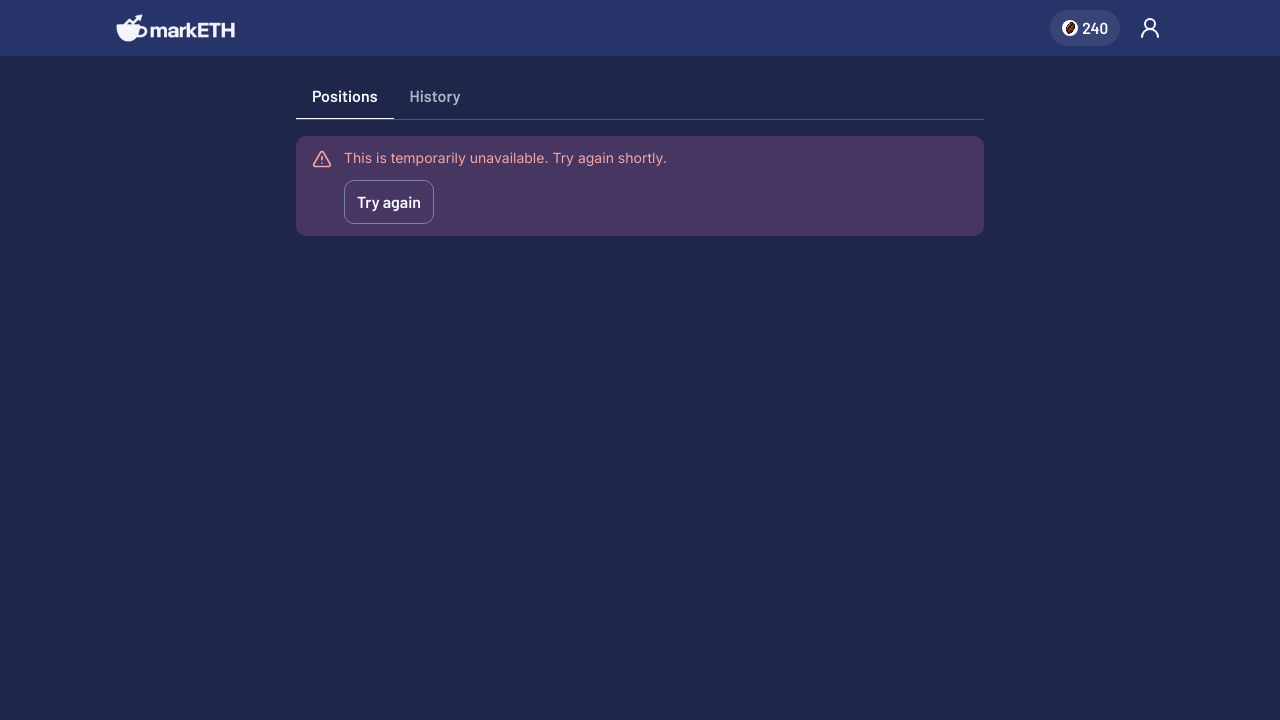
Scenario: Positions › error: a banner with the API's message and Try again, which reads the positions again
Expected: the message shows "This is temporarily unavailable. Try again shortly.", top-left (344, 149), bottom-right (667, 166)
Expected: the number of messages is 1, top-left (296, 136), bottom-right (984, 236)
Click the button "Try again" at [389, 202], box top-left (344, 180), bottom-right (434, 224)
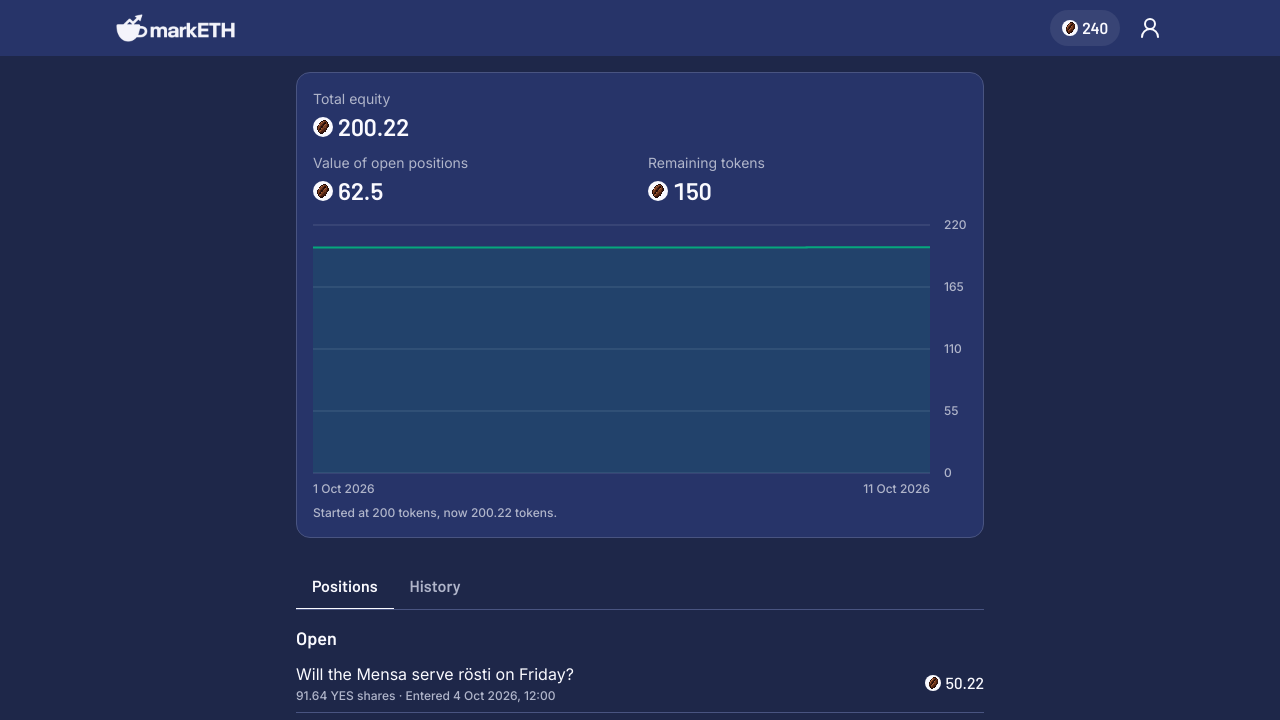
Expected: the message "This is temporarily unavailable. Try again shortly. Try again" is gone
Expected: the element that starts with "Total equity" is shown, top-left (296, 72), bottom-right (984, 538)
